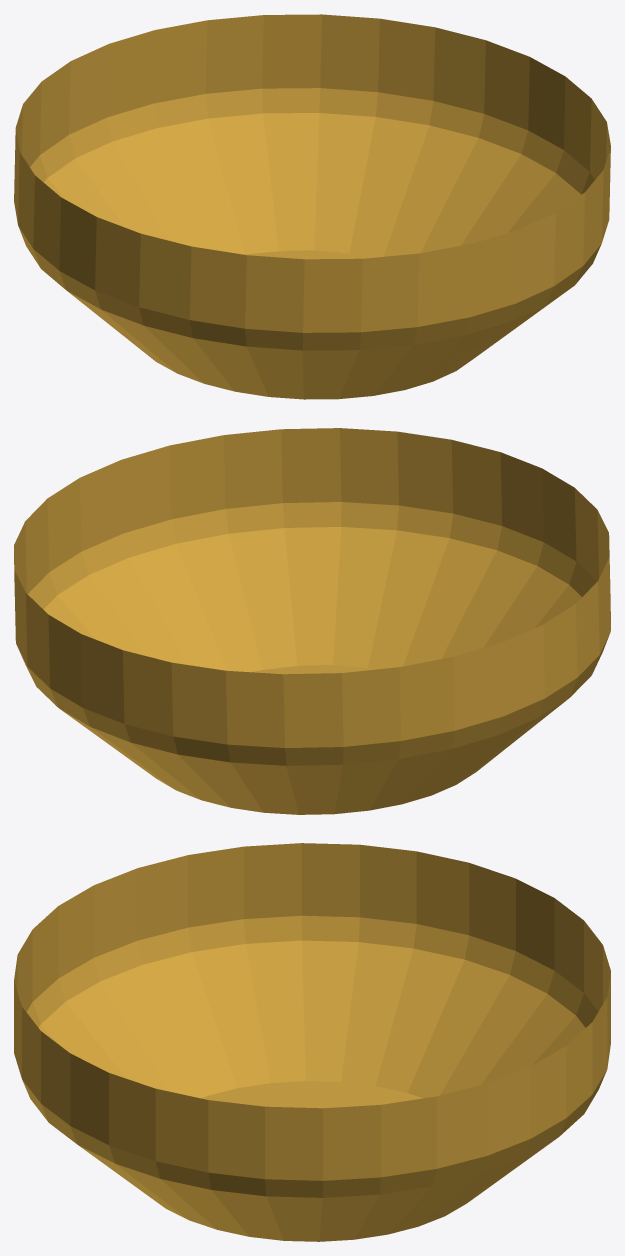
The model's file is 3_handle__Safe.obj.
The picture shows the model from 3 angles, top to bottom: view 1: azimuth 30°, elevation 25°; view 2: azimuth 150°, elevation 25°; view 3: azimuth 270°, elevation 25°; orthographic projection.
Visible parts, largest first — view 1: 3_handle__Safe; view 2: 3_handle__Safe; view 3: 3_handle__Safe.
Part boxes in pixels (bbox=[...]): 3_handle__Safe: bbox=[14, 14, 610, 399]; 3_handle__Safe: bbox=[14, 428, 610, 814]; 3_handle__Safe: bbox=[14, 843, 610, 1241].
Size of the model in its own units: 0.0782 by 0.0286 by 0.078.
